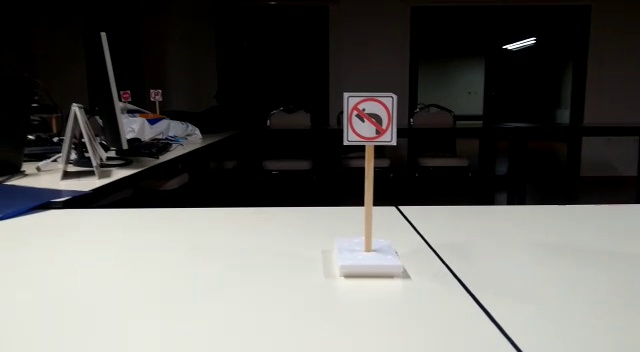sola_donulmez: (346, 93, 394, 145)
